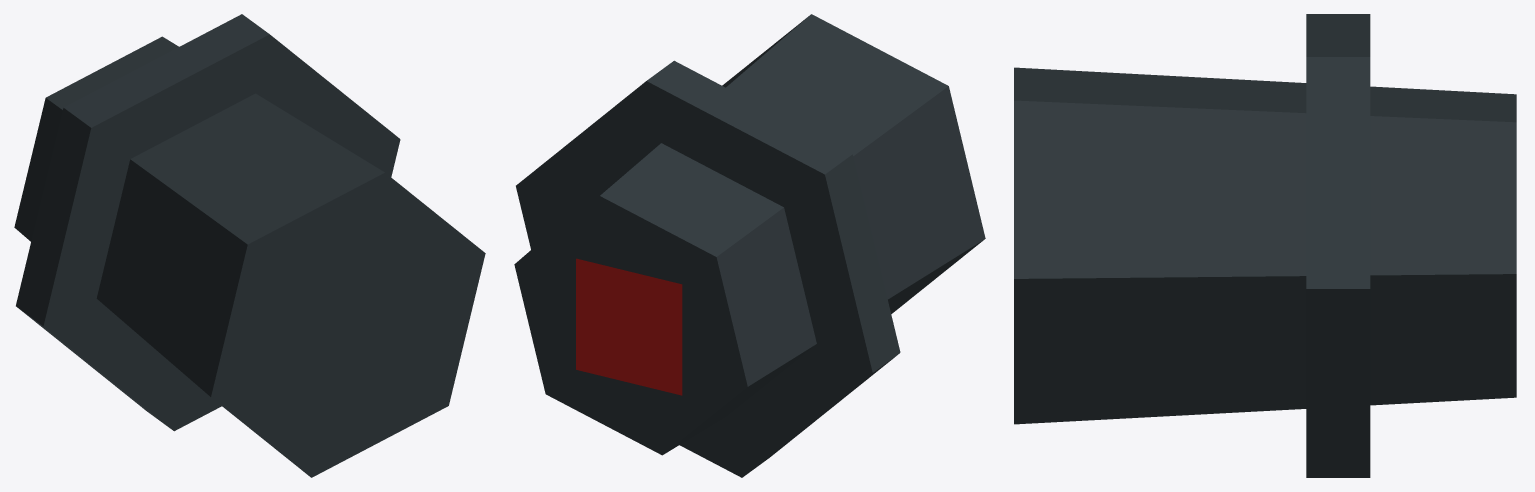
3 views of the same model, side by side, from view 1: azimuth 30°, elevation 25°; view 2: azimuth 150°, elevation 25°; view 3: azimuth 270°, elevation 25° (orthographic). The views are drawn at different scales.
Parts seen in each view (by area): view 1: mount; view 2: mount; view 3: mount.
Part boxes in pixels (x1,y1,x2,y2): mount: (14, 14, 485, 477); mount: (514, 14, 985, 477); mount: (1014, 14, 1516, 477).
Size of the model in its own units: 3.26 by 3.26 by 3.47.
